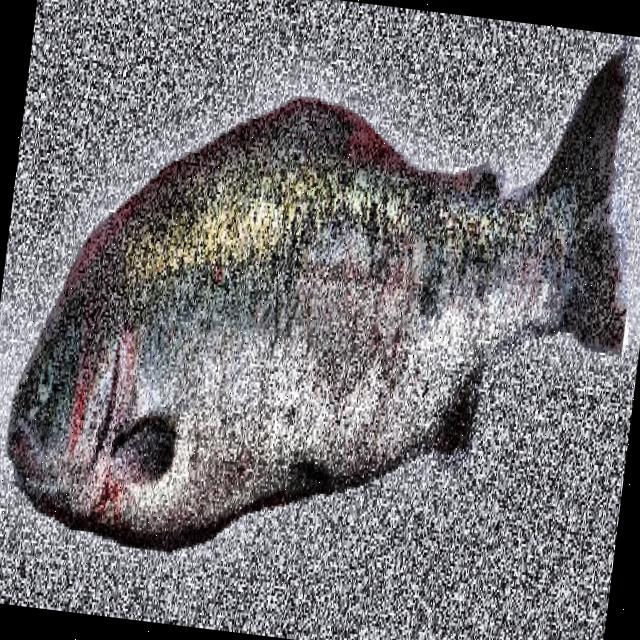mild_red: (96, 55, 624, 545)
